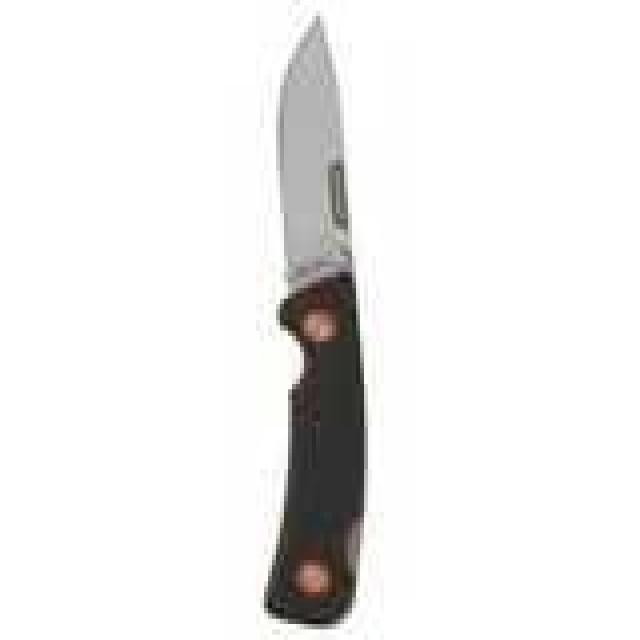knife: (254, 0, 361, 640)
